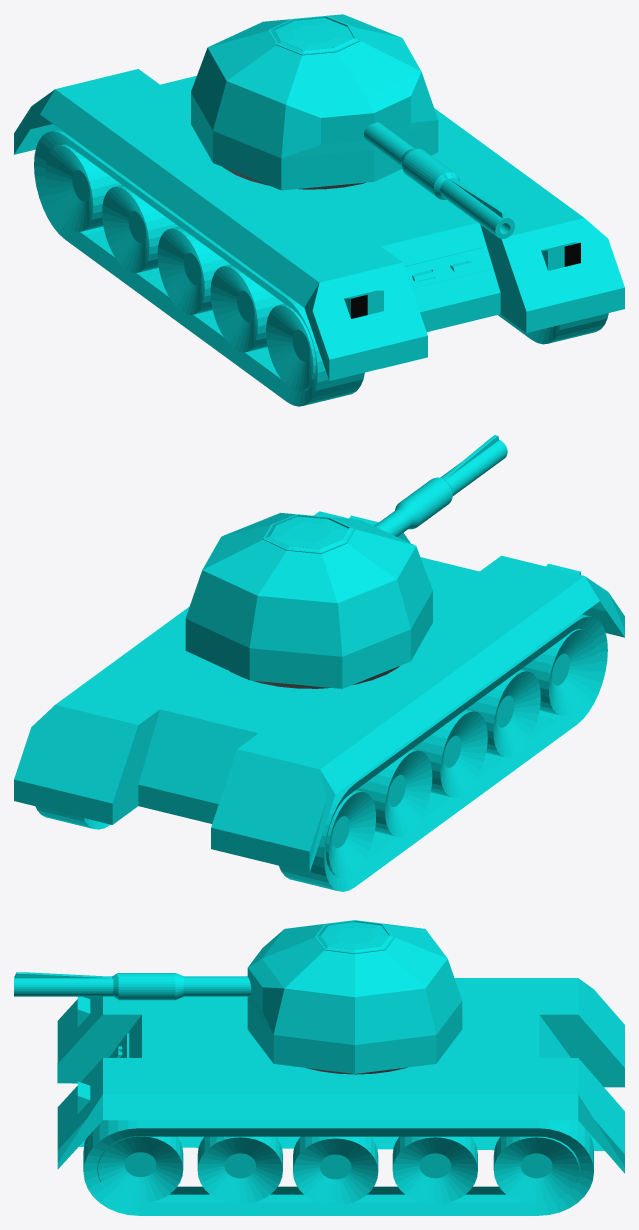
Rendered from tankmodel1.fbx.
The picture shows the model from 3 angles, top to bottom: view 1: azimuth 30°, elevation 25°; view 2: azimuth 150°, elevation 25°; view 3: azimuth 270°, elevation 25°; orthographic projection. The views are drawn at different scales.
Parts seen in each view (by area): view 1: Cube.001; view 2: Cube.001; view 3: Cube.001.
Part boxes in pixels (x1,y1,x2,y2): Cube.001: (14, 14, 624, 406); Cube.001: (14, 435, 624, 891); Cube.001: (14, 920, 624, 1215).
Bounding box in the file's own units: 719 × 569 × 1432.
